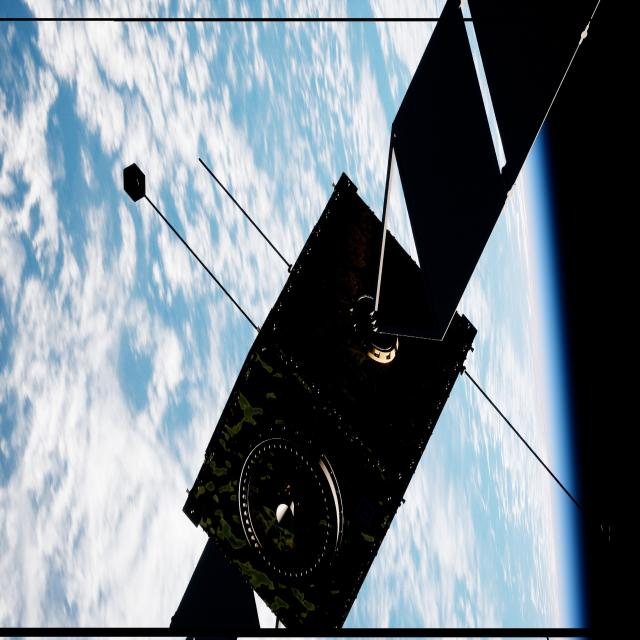satellite: (169, 0, 604, 636)
